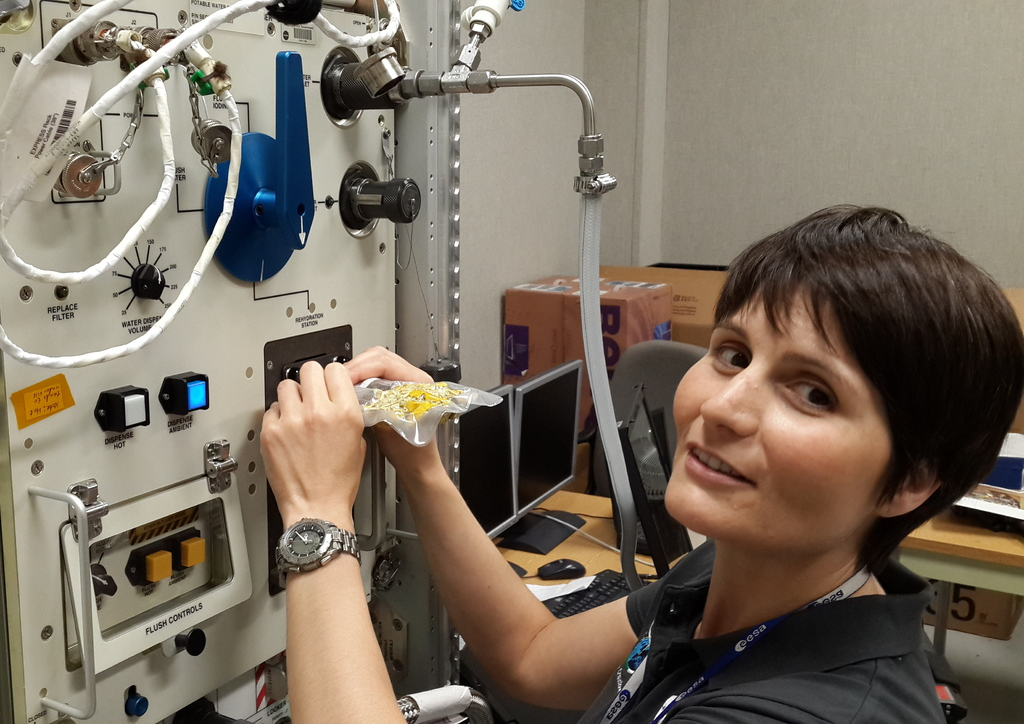watch: (275, 512, 358, 583)
